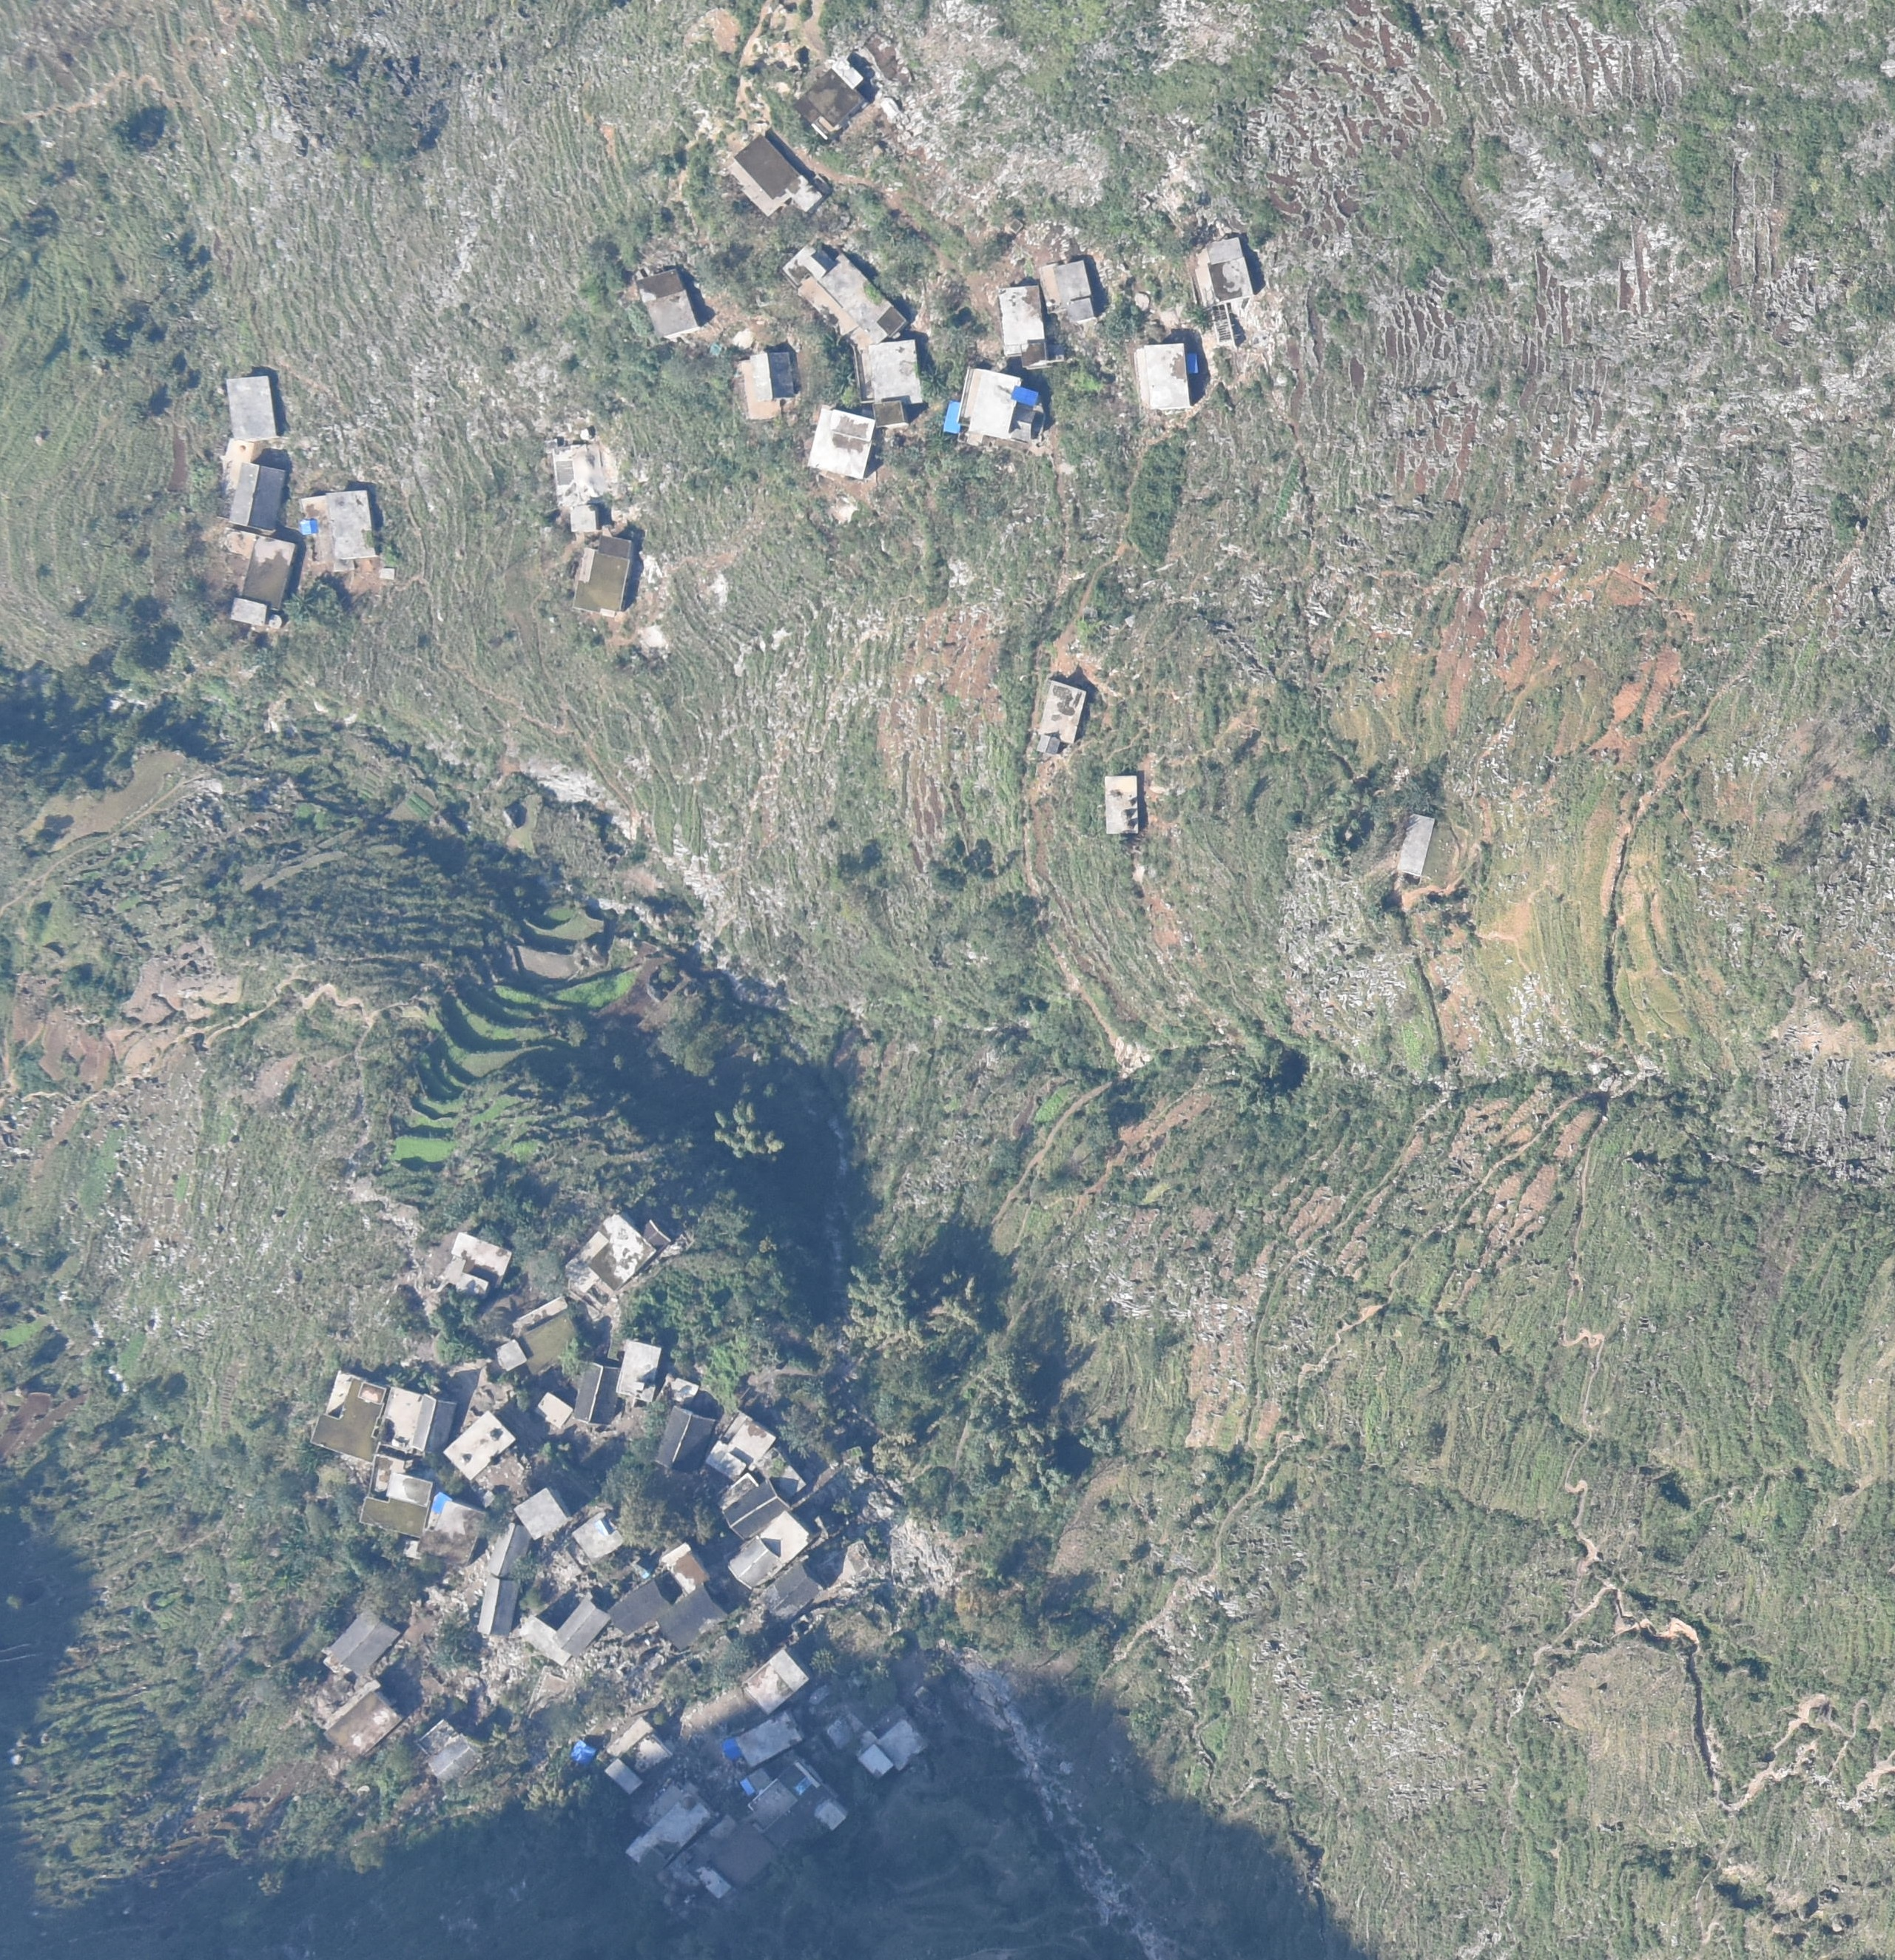building: (783, 243, 908, 343), (611, 1548, 727, 1649), (666, 1822, 778, 1905), (565, 1214, 670, 1301), (744, 1765, 843, 1845), (726, 134, 821, 212), (826, 1705, 926, 1776), (792, 57, 868, 144), (491, 1300, 576, 1377), (309, 1373, 382, 1462), (622, 1796, 707, 1873), (523, 1596, 605, 1667), (380, 1387, 454, 1458), (229, 539, 292, 623), (730, 1516, 805, 1587), (360, 1458, 431, 1532), (323, 1692, 402, 1757), (442, 1230, 513, 1301), (479, 1527, 523, 1640), (417, 1492, 481, 1566), (443, 1411, 514, 1478), (807, 408, 872, 480), (610, 1718, 671, 1792), (705, 1418, 774, 1482), (634, 269, 696, 337), (958, 369, 1014, 445), (576, 536, 630, 613), (330, 1606, 395, 1670), (998, 289, 1048, 366), (738, 1711, 808, 1766), (232, 463, 287, 533), (1037, 681, 1088, 755), (656, 1411, 716, 1473), (745, 1655, 807, 1714), (1134, 343, 1187, 412), (1200, 240, 1258, 303), (722, 1483, 787, 1538), (741, 351, 793, 420), (419, 1723, 478, 1782), (761, 1566, 820, 1624), (326, 489, 374, 559), (228, 374, 278, 442), (1040, 262, 1096, 321), (866, 340, 922, 398), (574, 1364, 620, 1428), (616, 1340, 660, 1404), (514, 1482, 565, 1538), (758, 1449, 808, 1501), (573, 1511, 622, 1563), (1397, 813, 1435, 877), (1104, 774, 1140, 833), (536, 1390, 571, 1429), (1011, 410, 1039, 446), (665, 1378, 697, 1408), (570, 505, 598, 533), (872, 401, 904, 426), (377, 567, 397, 579)
prefabricated-house: (942, 397, 960, 438), (568, 1739, 599, 1764), (718, 1738, 743, 1760), (1012, 387, 1039, 406), (1185, 351, 1199, 375), (300, 519, 319, 536)
well: (268, 614, 280, 631)
